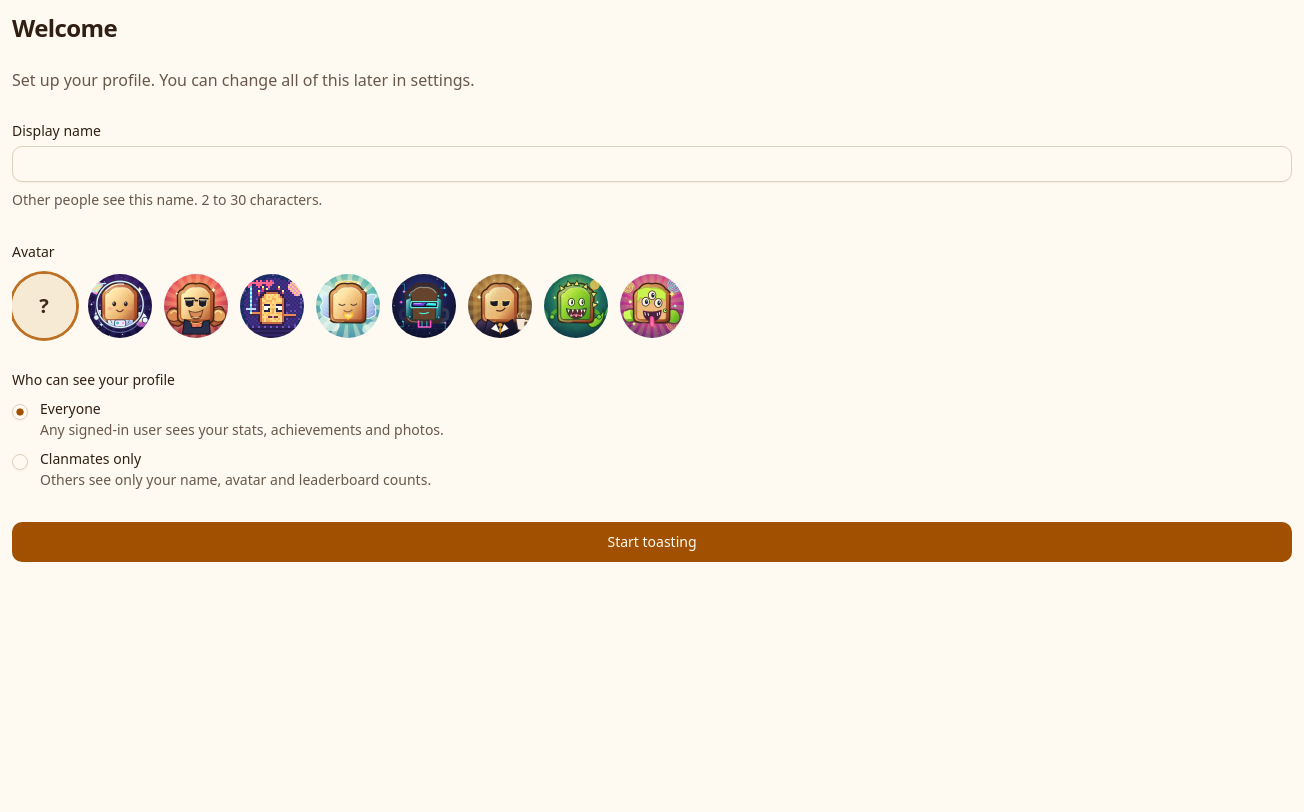
it: OnboardingPage › shows the API error
The image size is (1304, 812).
Type "Ann" into the field labelled "Display name" at (652, 164), box x1=12 y1=146 x2=1292 y2=182
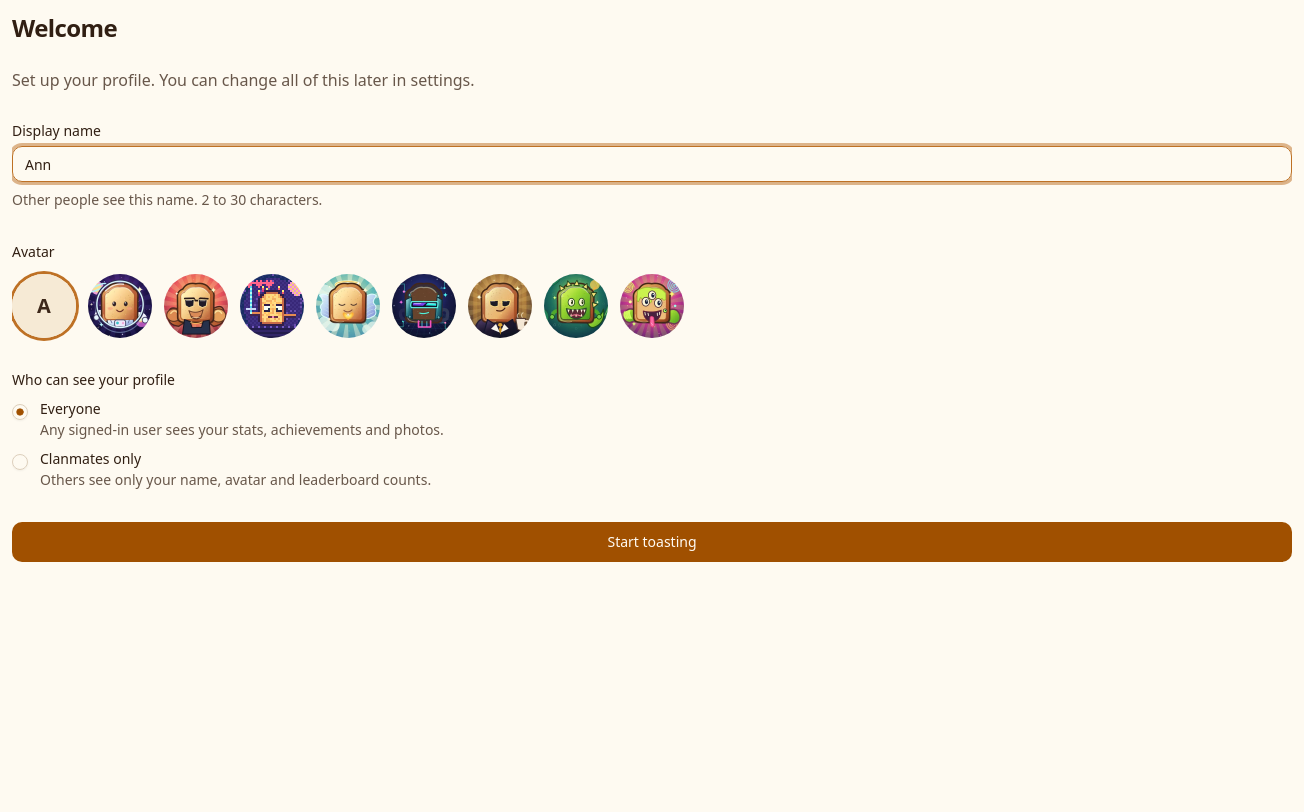
Click the button "Start toasting" at (652, 542), box x1=12 y1=522 x2=1292 y2=562
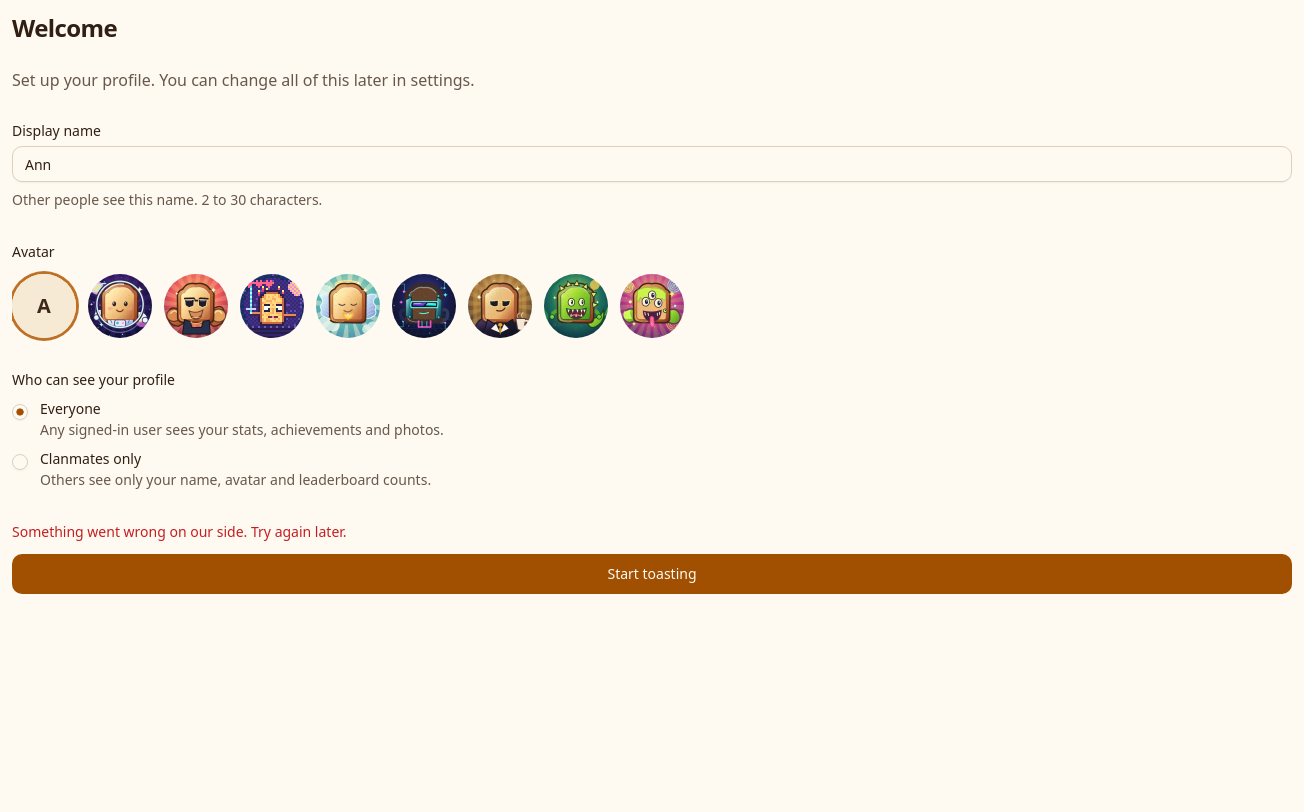
Expected: the message shows "Something went wrong", x1=12 y1=522 x2=347 y2=541
